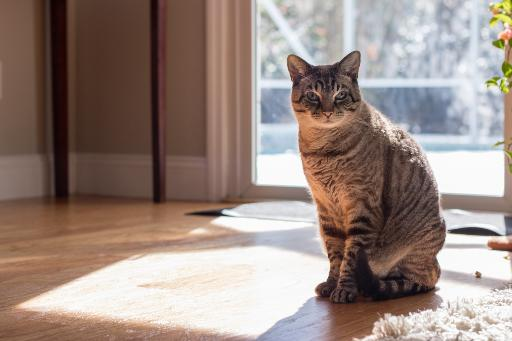cat_sitting: (287, 52, 446, 303)
